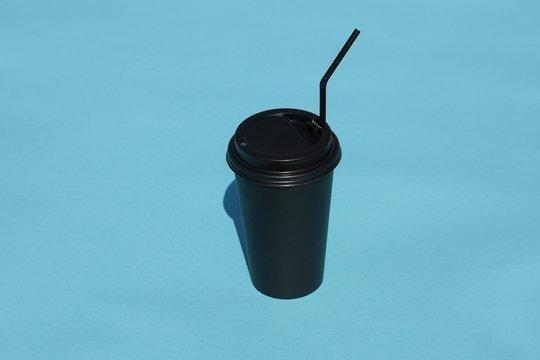cup-disposable: (224, 104, 343, 302)
